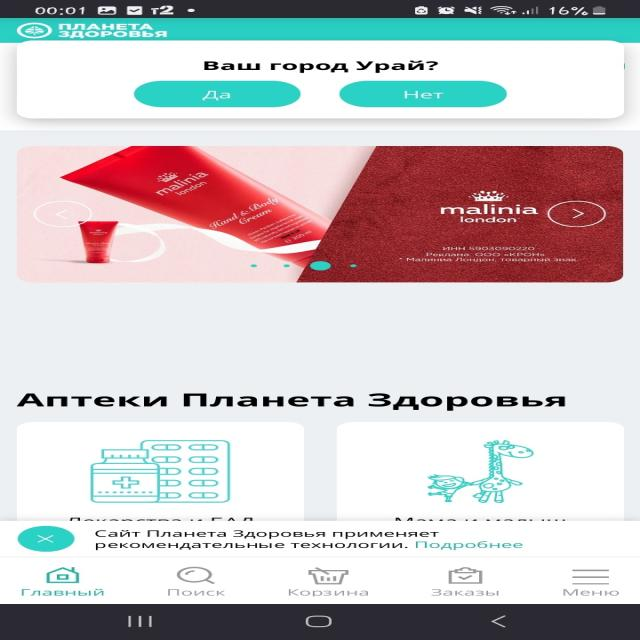button: (342, 80, 509, 109), (134, 80, 302, 107), (15, 526, 76, 551)
site: (18, 42, 622, 118), (0, 520, 640, 557)
